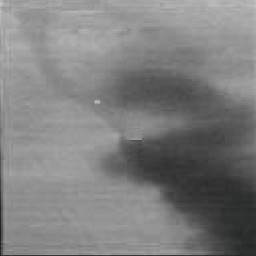Target: (92, 99, 101, 104)
